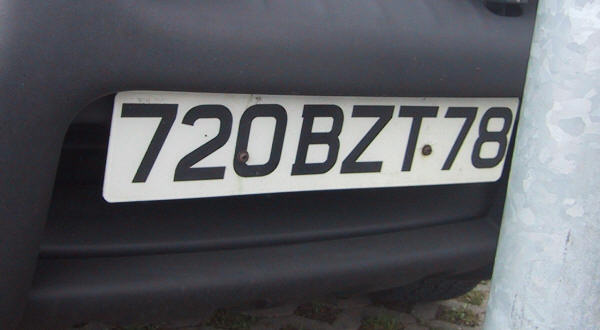license_plate: (101, 91, 523, 204)
